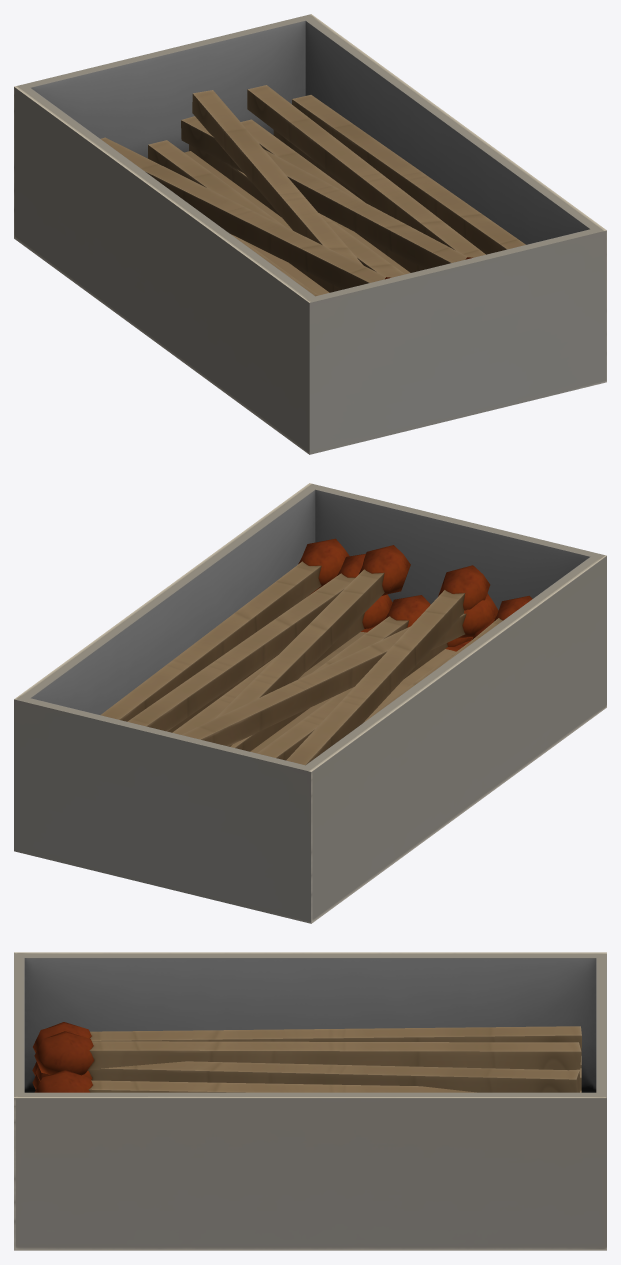
File: MatchBox.fbx
3 renders of one model, top to bottom at view 1: azimuth 30°, elevation 25°; view 2: azimuth 150°, elevation 25°; view 3: azimuth 270°, elevation 25°, orthographic.
Visible parts, largest first — view 1: Matches; view 2: Matches; view 3: Matches.
Part boxes in pixels (<box>): Matches: <box>14,14,606,454</box>; Matches: <box>14,483,606,923</box>; Matches: <box>14,952,606,1250</box>.
Bounding box in the file's own units: 0.0464 × 0.0227 × 0.0799.
